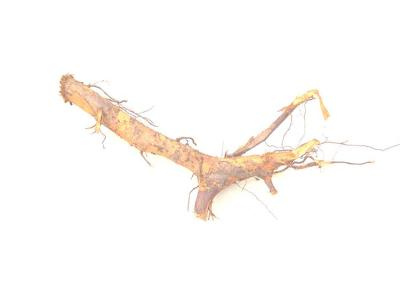Root: (60, 74, 341, 220)
